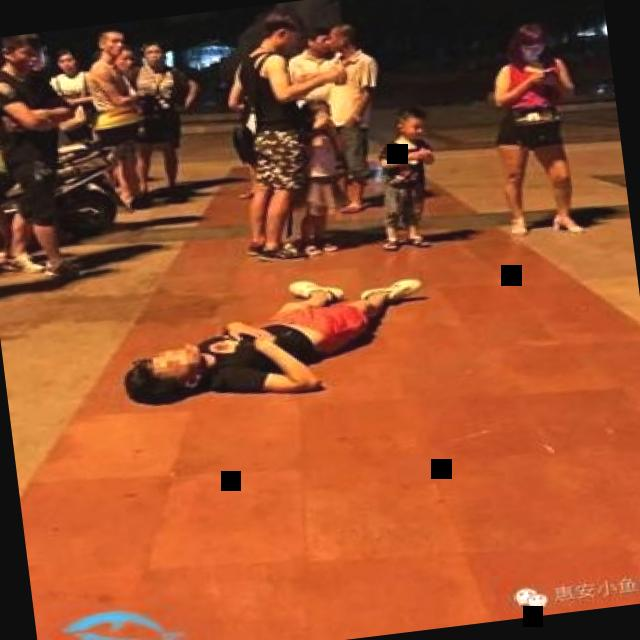Fall-Detected: (100, 246, 432, 422)
